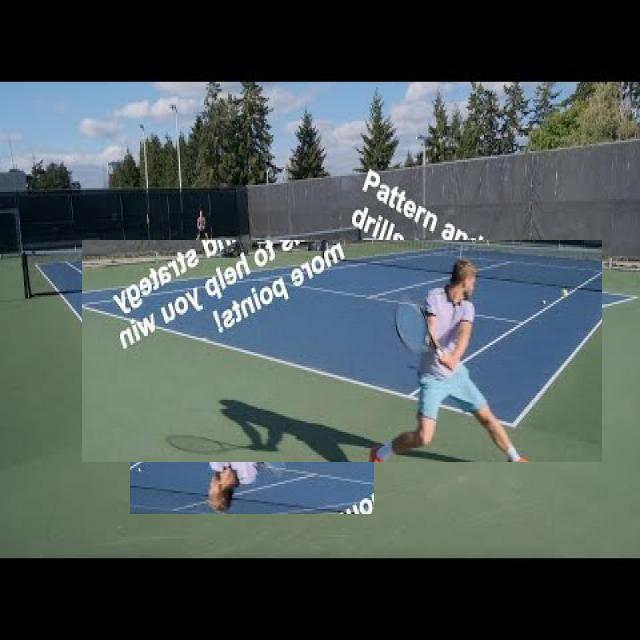court: (82, 240, 602, 462)
net: (20, 232, 376, 293)
player: (130, 258, 374, 514)
